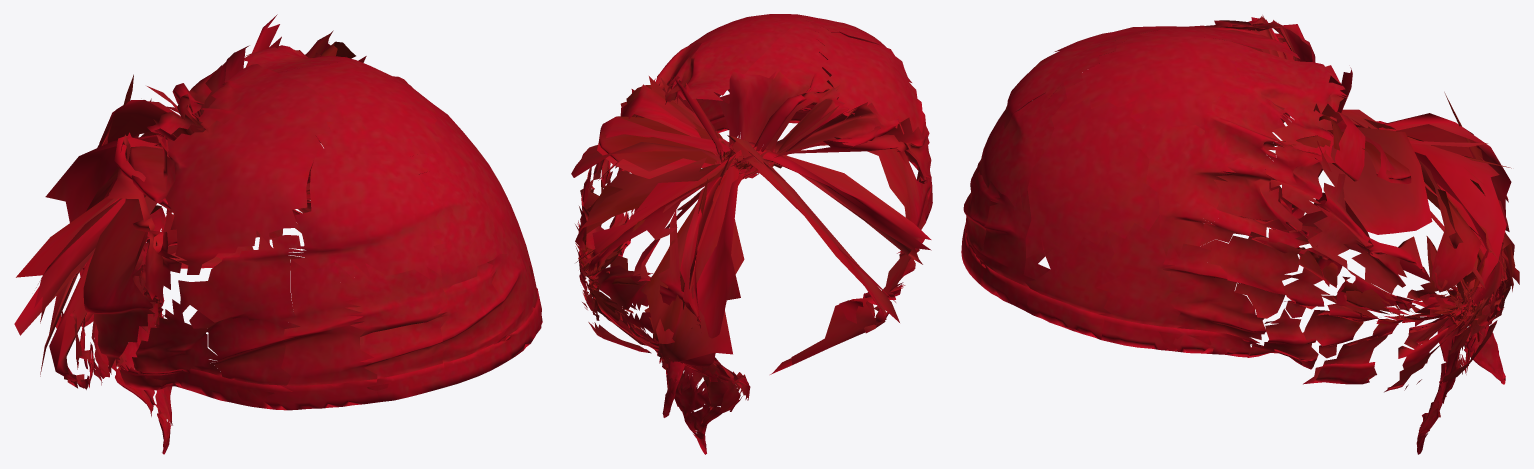
File: dante.glb
3 renders of one model, left to right at view 1: azimuth 30°, elevation 25°; view 2: azimuth 150°, elevation 25°; view 3: azimuth 270°, elevation 25°, orthographic. The views are drawn at different scales.
Parts seen in each view (by area): view 1: geometry_0; view 2: geometry_0; view 3: geometry_0.
Boxes of the visible parts, x1,y1,x2,y2 form: geometry_0: (14,14,542,454); geometry_0: (571,14,932,454); geometry_0: (961,15,1519,454).
Size of the model in its own units: 0.2191 by 0.2268 by 0.2666.
Materials: 1 (1 with a texture image).
